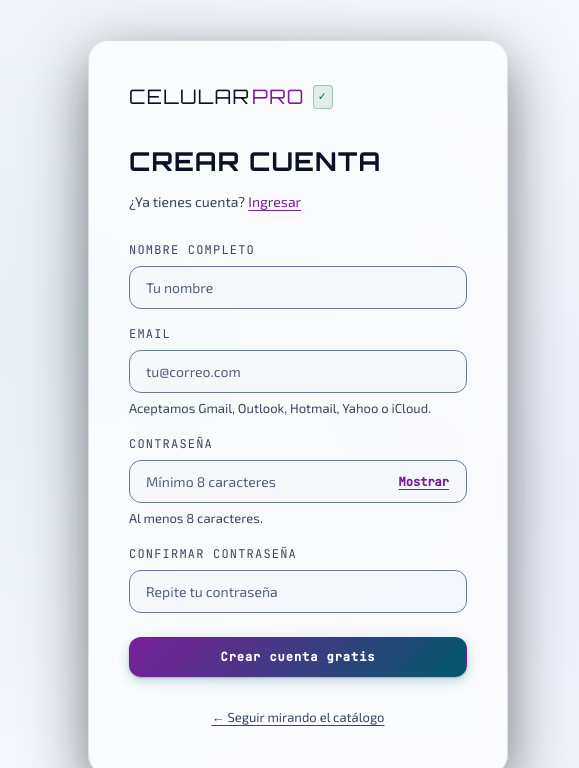
Register — envío del formulario › muestra el mensaje de error del servidor y no navega si registerUser() rechaza
Type "Mario" into the field labelled "Nombre completo".
click(298, 288); type("Mario")  # box [129,266,467,309]
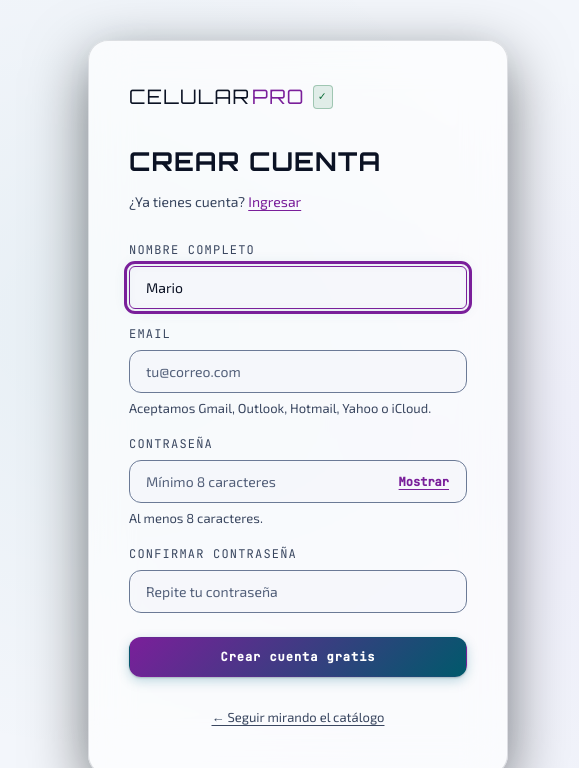
Type "user@gmail.com" into the field labelled "Email".
click(298, 372); type("user@gmail.com")  # box [129,350,467,393]
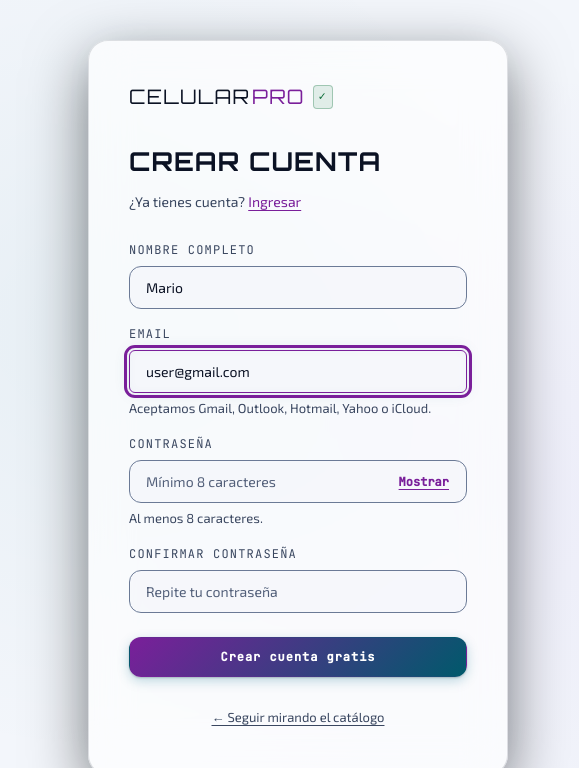
Type "password123" into the password field labelled "Contraseña".
click(298, 482); type("password123")  # box [129,460,467,503]
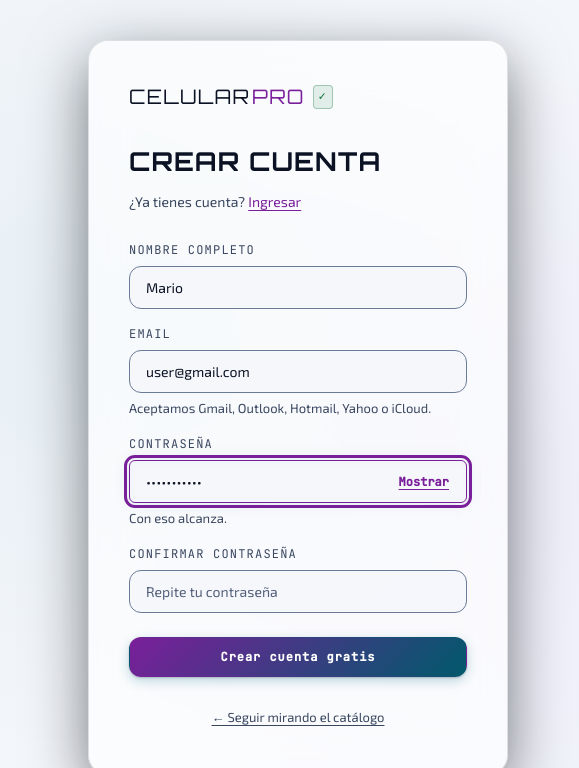
Type "password123" into the password field labelled "Confirmar contraseña".
click(298, 591); type("password123")  # box [129,570,467,613]
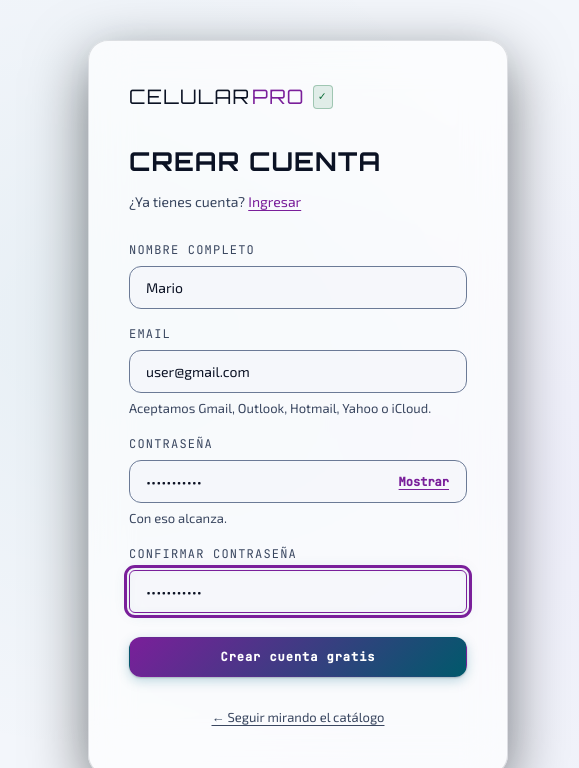
Click the button "Crear cuenta gratis".
click(298, 657)  # box [129,637,467,677]
(page scrolled)
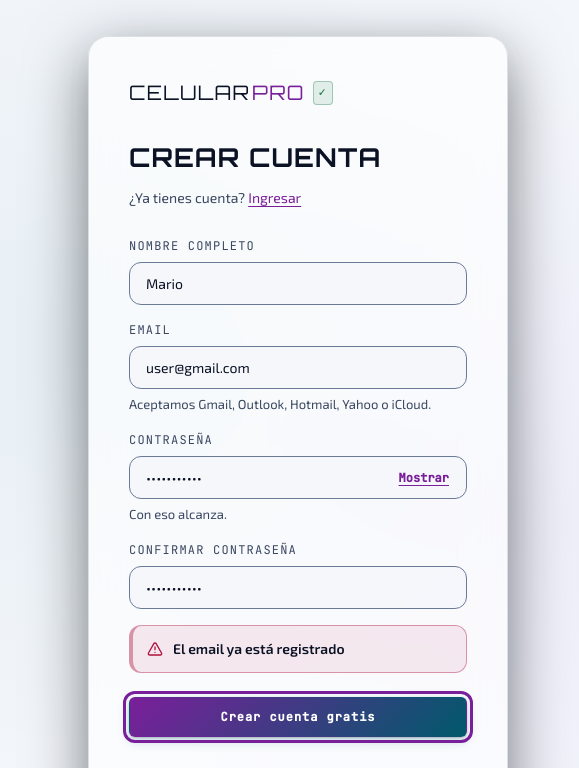
Now the text "El email ya está registrado" is shown, box [173,638,344,660]
